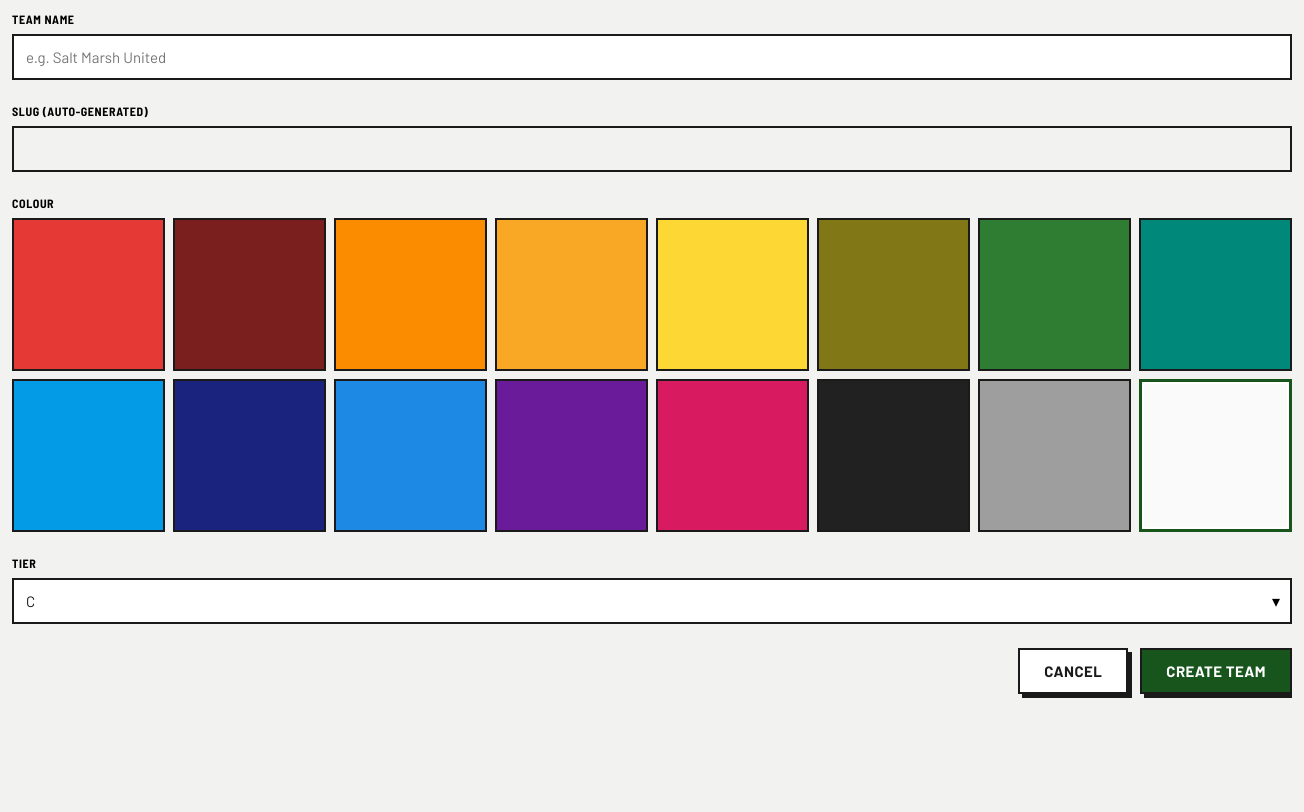
Scenario: TeamForm › removes the validation error after a valid save
The width and height of the screenshot is (1304, 812).
Click the button "Create team" at (1216,671), box [1140,648,1292,694]
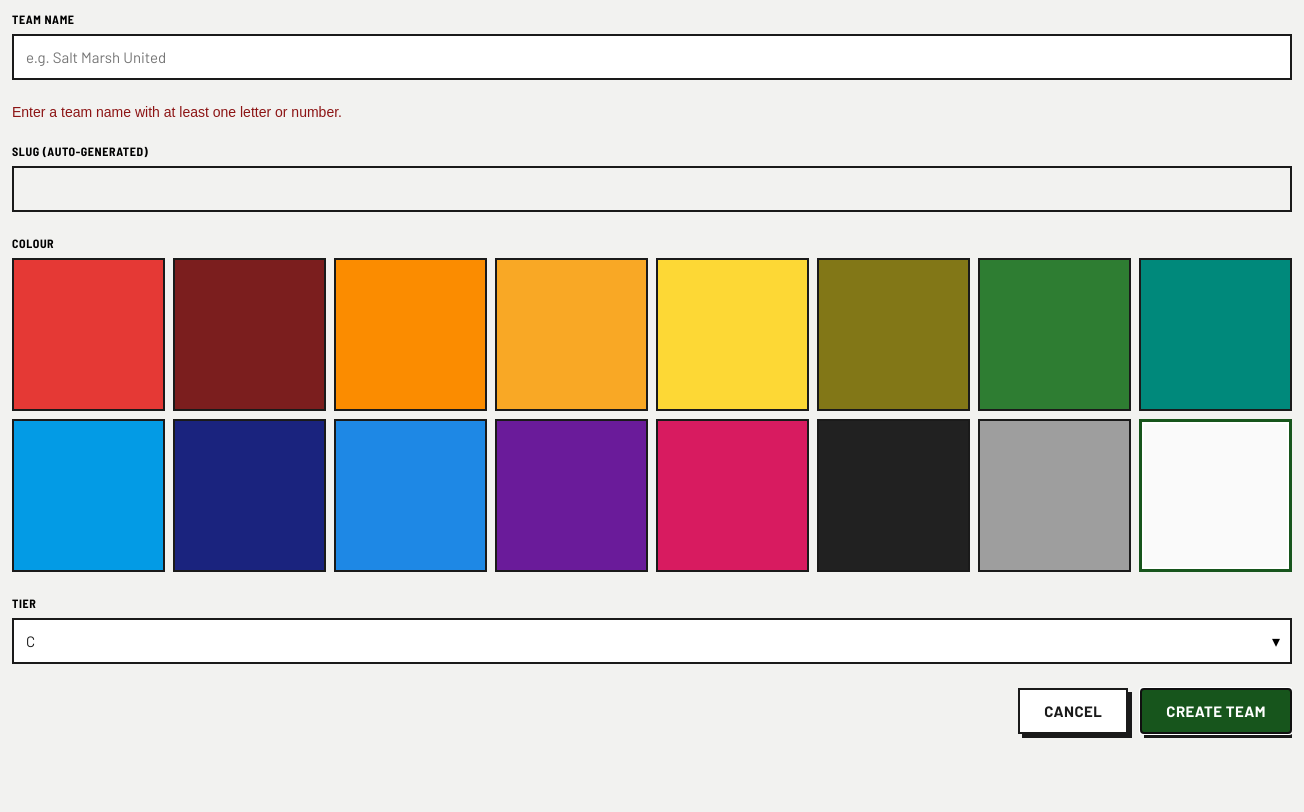
Expected: the message "Enter a team name with at least one letter or number." is shown, [12,104,342,120]
Type "Harborview SC" into the field labelled "Team name" at (652,57), box [12,34,1292,80]
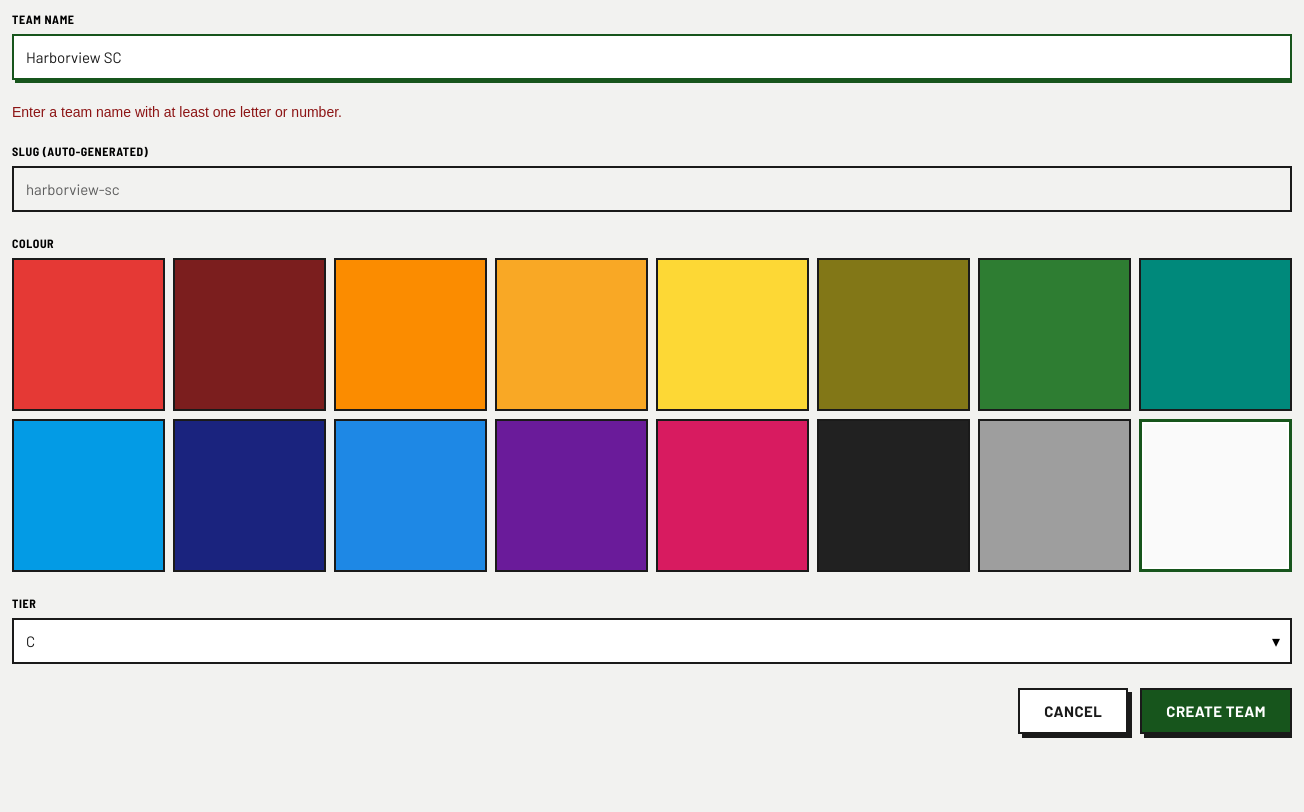
Click the button "Create team" at (1216,711), box [1140,688,1292,734]
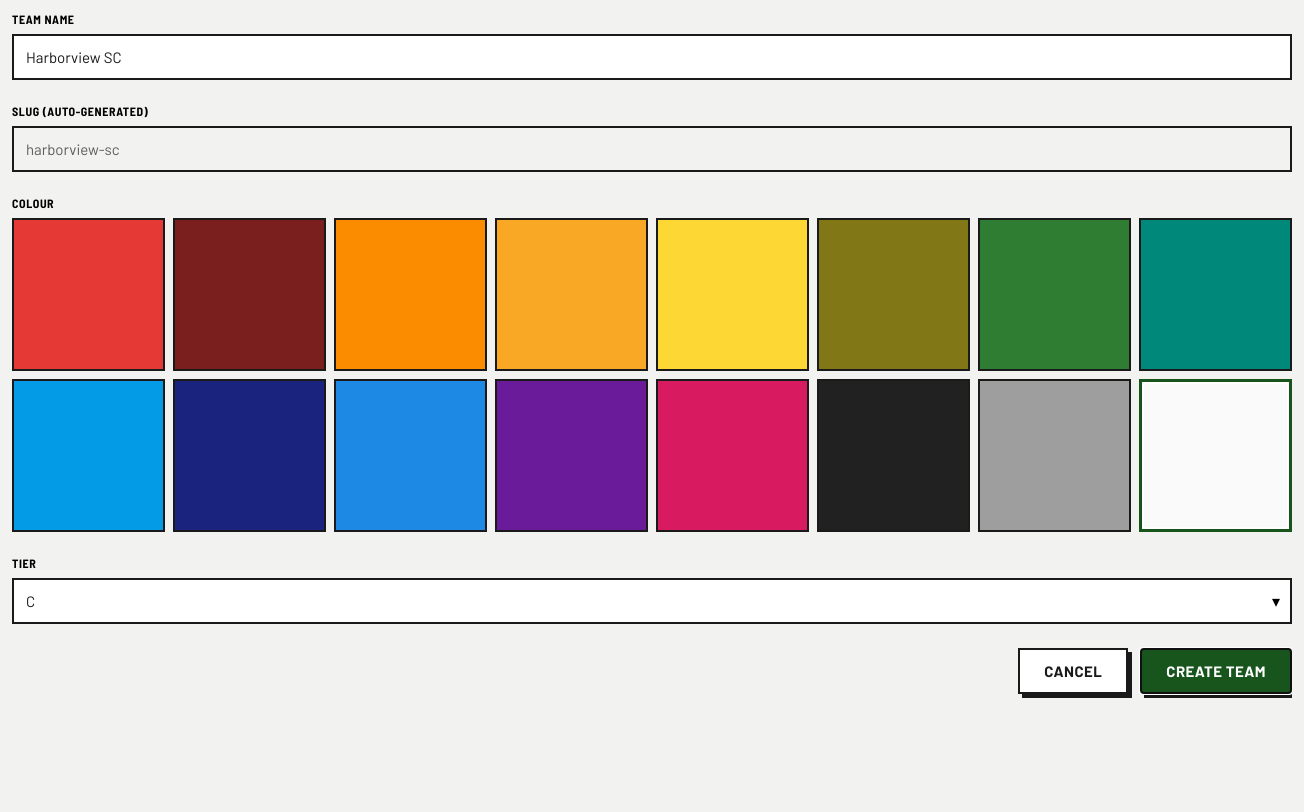
Expected: the message "Enter a team name with at least one letter or number." is gone
